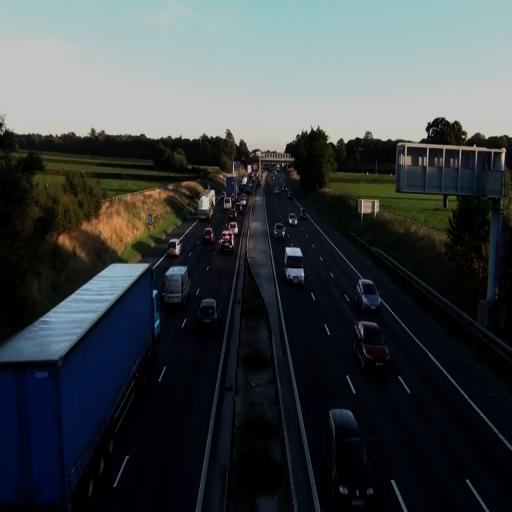vehicle: (0, 259, 161, 507), (328, 408, 376, 510), (353, 320, 391, 374), (163, 263, 190, 309), (196, 297, 220, 335), (284, 246, 306, 286), (356, 278, 380, 312), (197, 191, 215, 221), (219, 229, 236, 254), (274, 220, 286, 240), (202, 226, 214, 246), (288, 212, 298, 225), (300, 212, 307, 220)
